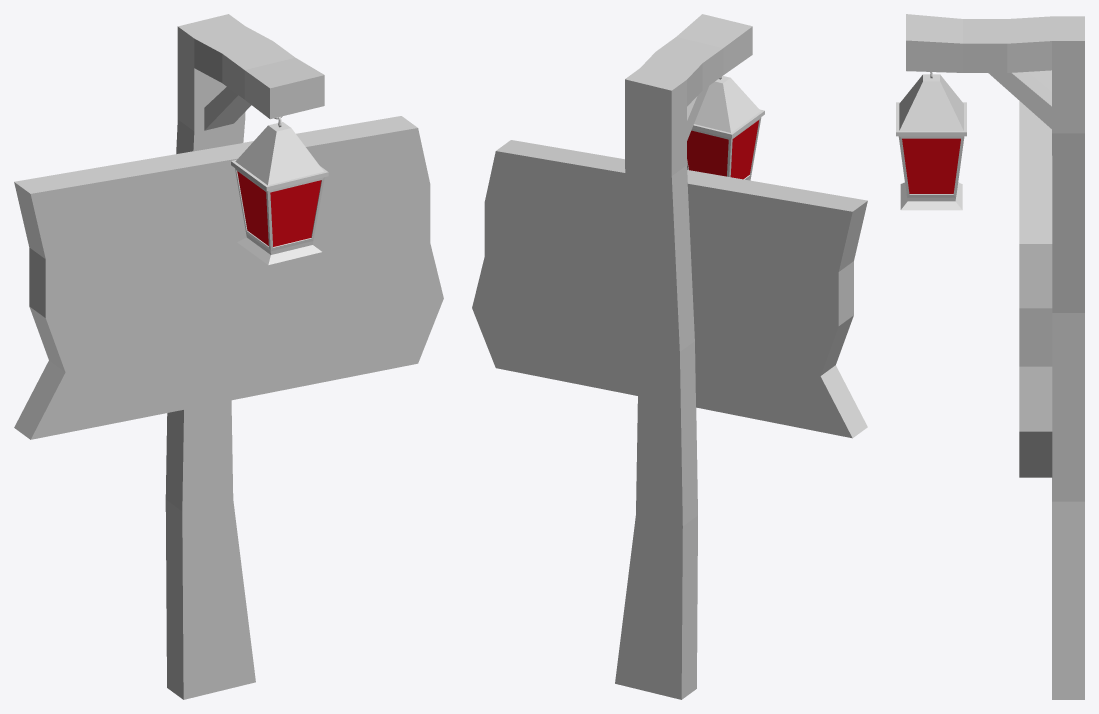
Rendered from Sign.fbx.
The picture shows the model from 3 angles, left to right: view 1: azimuth 30°, elevation 25°; view 2: azimuth 150°, elevation 25°; view 3: azimuth 270°, elevation 25°; orthographic projection. The views are drawn at different scales.
Visible parts, largest first — view 1: Cube.034, Cube.037; view 2: Cube.034, Cube.037; view 3: Cube.034, Cube.037.
Boxes of the visible parts, x1,y1,x2,y2 form: Cube.034: (14,14,443,699); Cube.037: (231,116,328,264); Cube.034: (472,14,867,699); Cube.037: (687,76,764,180); Cube.034: (906,14,1084,699); Cube.037: (896,72,966,210).
Bounding box in the file's own units: 204 × 313 × 81.38.
